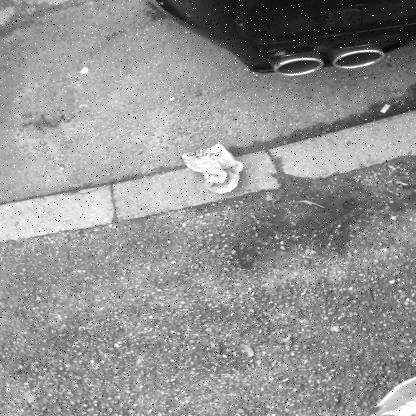paper: (182, 143, 243, 194)
